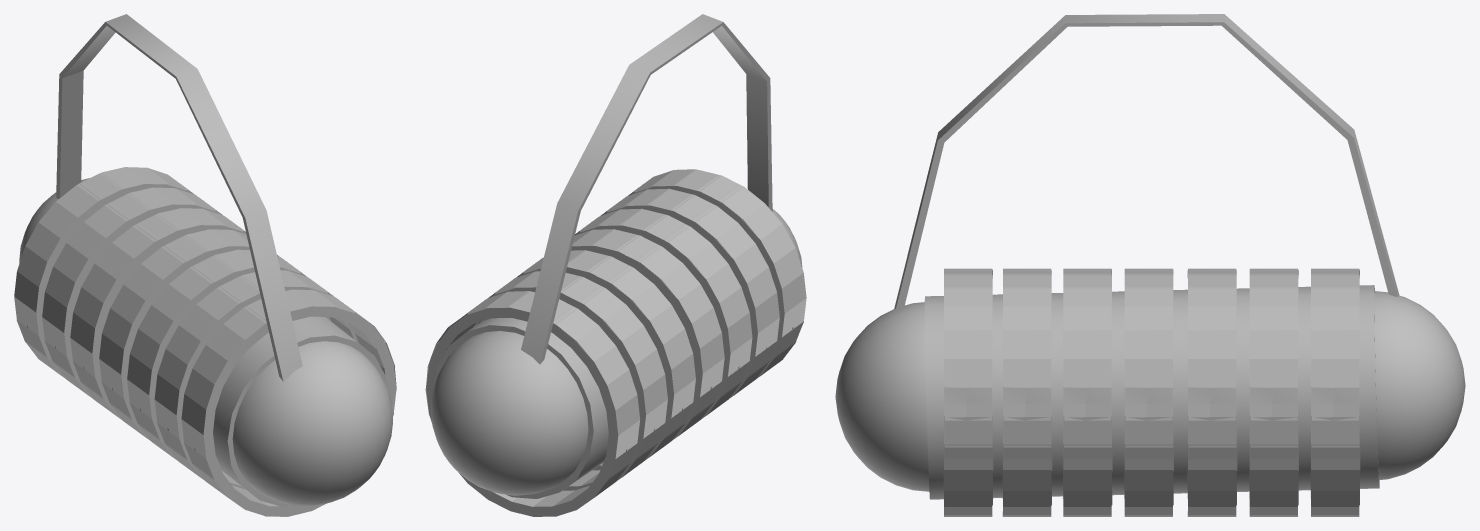
The model's file is LockBase.fbx.
3 renders of one model, left to right at view 1: azimuth 30°, elevation 25°; view 2: azimuth 150°, elevation 25°; view 3: azimuth 270°, elevation 25°, orthographic. The views are drawn at different scales.
Parts seen in each view (by area): view 1: Ends_1, Arch, LockKeys__5_, LockKeys__2_, LockKeys__3_, LockKeys__6_, LockKeys__1_, LockKeys__4_, LockKeys, Cylinder, Ends, Plane__10__5 (+11 smaller); view 2: Ends, Arch, LockKeys__6_, LockKeys__3_, LockKeys__1_, LockKeys, LockKeys__4_, LockKeys__2_, LockKeys__5_, Cylinder, Plane__10__3, Plane__10_ (+10 smaller); view 3: Cylinder, Ends_1, Ends, Arch, LockKeys__3_, LockKeys__1_, LockKeys, LockKeys__2_, LockKeys__6_, LockKeys__5_, LockKeys__4_, Plane__5__3 (+55 smaller).
Boxes of the visible parts, x1,y1,x2,y2 form: Ends_1: [232, 341, 392, 506]; Arch: [56, 14, 302, 381]; LockKeys__5_: [181, 299, 396, 516]; LockKeys__2_: [70, 214, 246, 420]; LockKeys__3_: [42, 194, 219, 399]; LockKeys__6_: [14, 173, 191, 378]; LockKeys__1_: [99, 235, 249, 440]; LockKeys__4_: [154, 276, 358, 489]; LockKeys: [127, 256, 330, 460]; Cylinder: [213, 316, 387, 506]; Ends: [19, 178, 89, 263]; Plane__10__5: [130, 187, 174, 208]; Ends: [431, 331, 588, 495]; Arch: [521, 14, 772, 364]; LockKeys__6_: [426, 299, 640, 516]; LockKeys__3_: [473, 276, 667, 490]; LockKeys__1_: [571, 232, 724, 439]; LockKeys: [575, 210, 752, 418]; LockKeys__4_: [603, 191, 779, 398]; LockKeys__2_: [519, 256, 695, 470]; LockKeys__5_: [631, 170, 806, 378]; Cylinder: [434, 318, 608, 498]; Plane__10__3: [592, 229, 636, 250]; Plane__10_: [620, 209, 664, 230]; Cylinder: [924, 285, 1379, 499]; Ends_1: [835, 302, 929, 491]; Ends: [1374, 291, 1465, 479]; Arch: [894, 14, 1399, 309]; LockKeys__3_: [1249, 268, 1297, 516]; LockKeys__1_: [1124, 268, 1172, 516]; LockKeys: [1063, 268, 1111, 516]; LockKeys__2_: [1188, 268, 1236, 516]; LockKeys__6_: [1311, 268, 1359, 516]; LockKeys__5_: [944, 268, 992, 516]; LockKeys__4_: [1003, 268, 1051, 516]; Plane__5__3: [1125, 388, 1172, 420].
Bounding box in the file's own units: 508 × 1048 × 1305.
2 materials, 1 textured.
